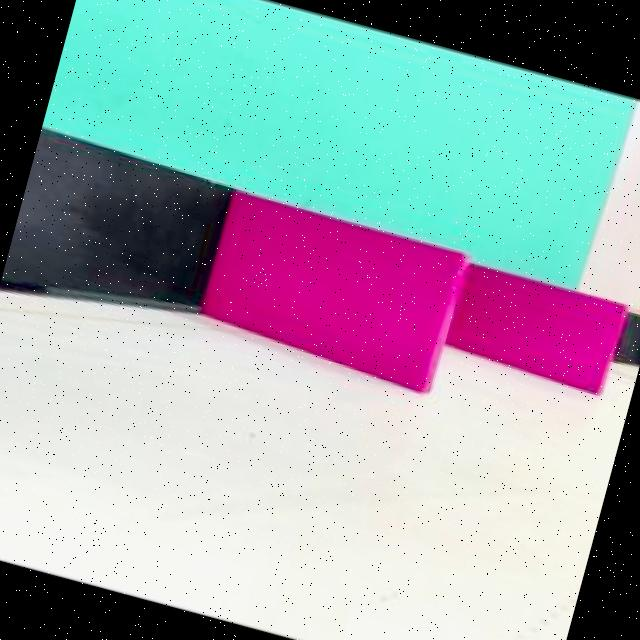xparking: (199, 193, 463, 380), (450, 264, 626, 389)
